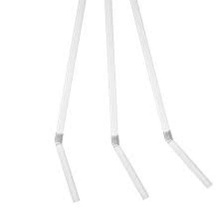drinking_straw: (120, 0, 216, 193), (99, 0, 152, 204), (48, 0, 92, 207)
